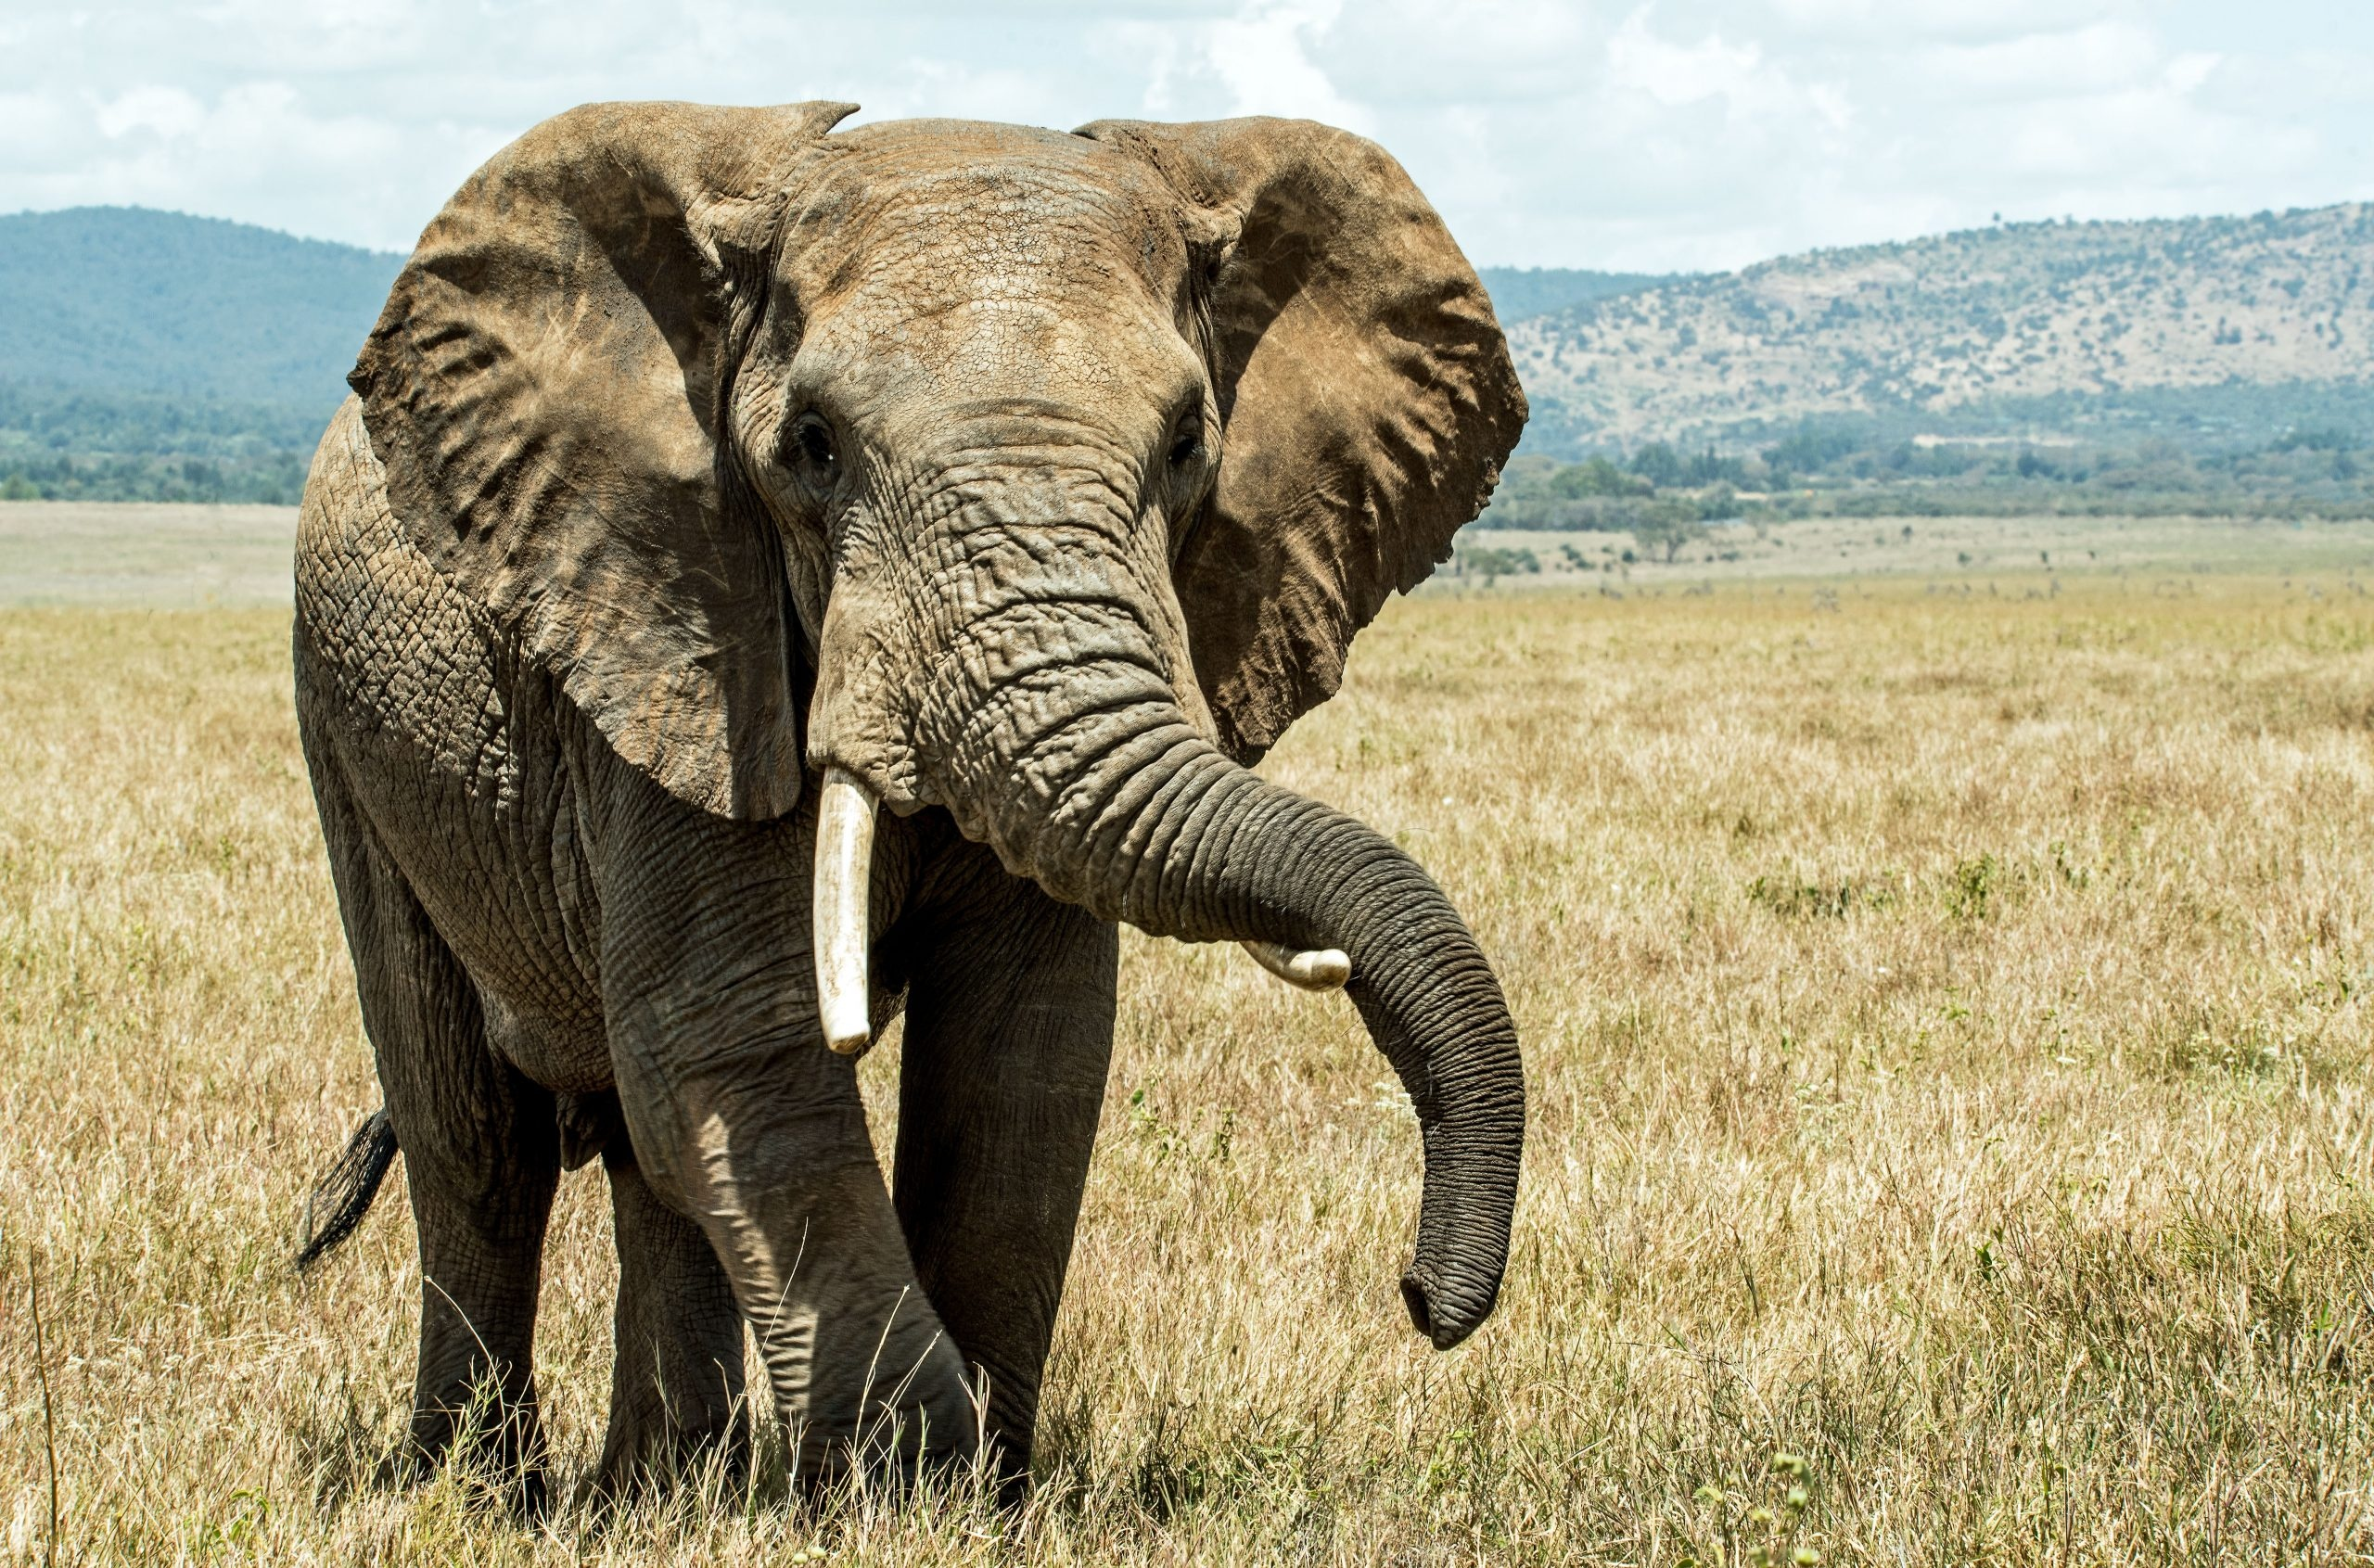elephant: (283, 87, 1538, 1491)
